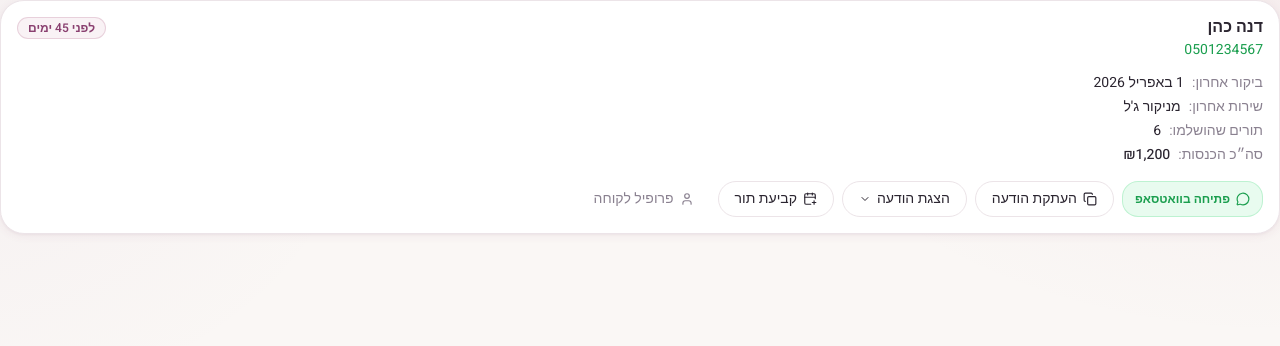
Test case: WinBackClientCard › toggles the message preview open and closed
Expected: the text "הודעה מוצעת" is not shown
Click the button "הצגת הודעה": (904, 199) 842,181 -> 967,217
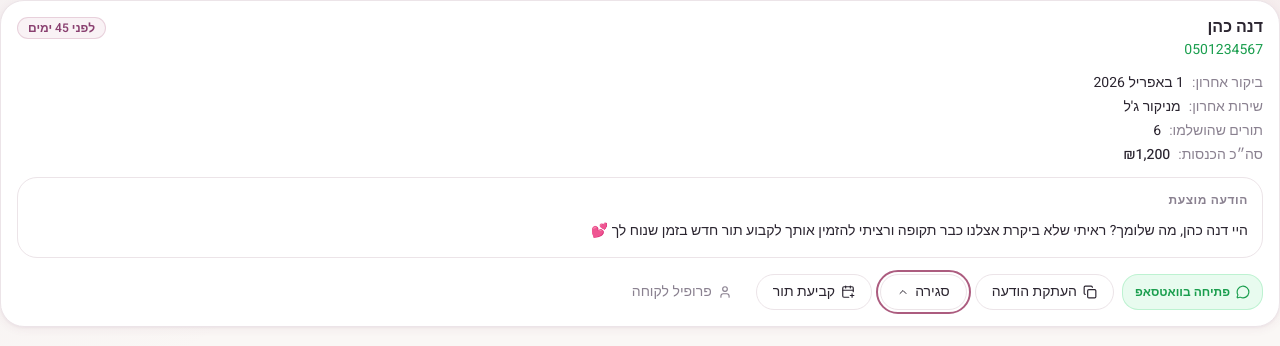
Expected: the text "הודעה מוצעת" is shown, 1168,191 -> 1248,209
Note: now shows "סגירה" toggle
Click the button "סגירה": (923, 292) 880,274 -> 967,310
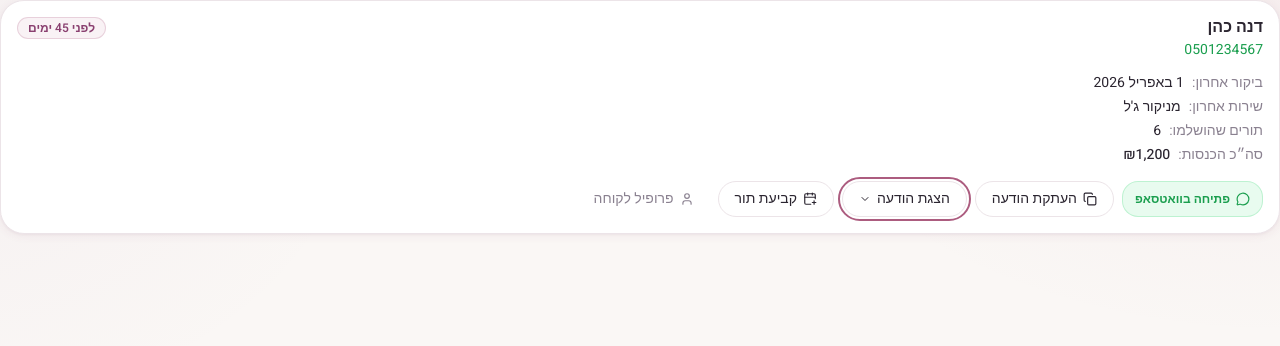
Expected: the text "הודעה מוצעת" is gone
